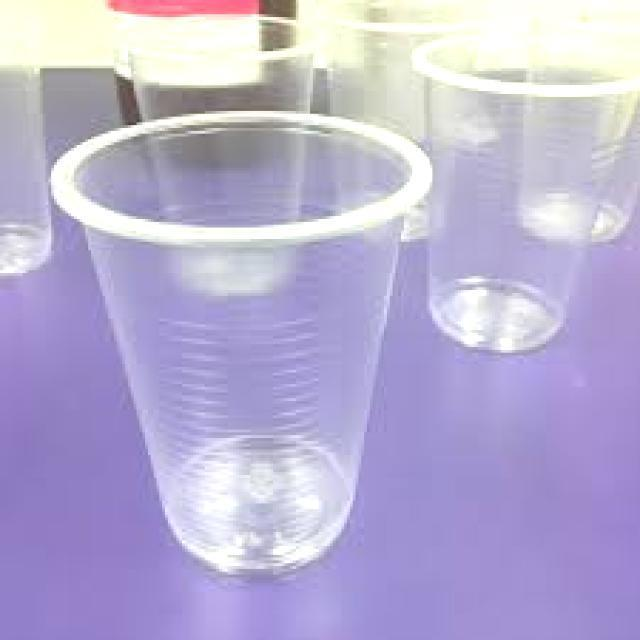Plastico descartable: (52, 112, 425, 573), (417, 61, 592, 354)
